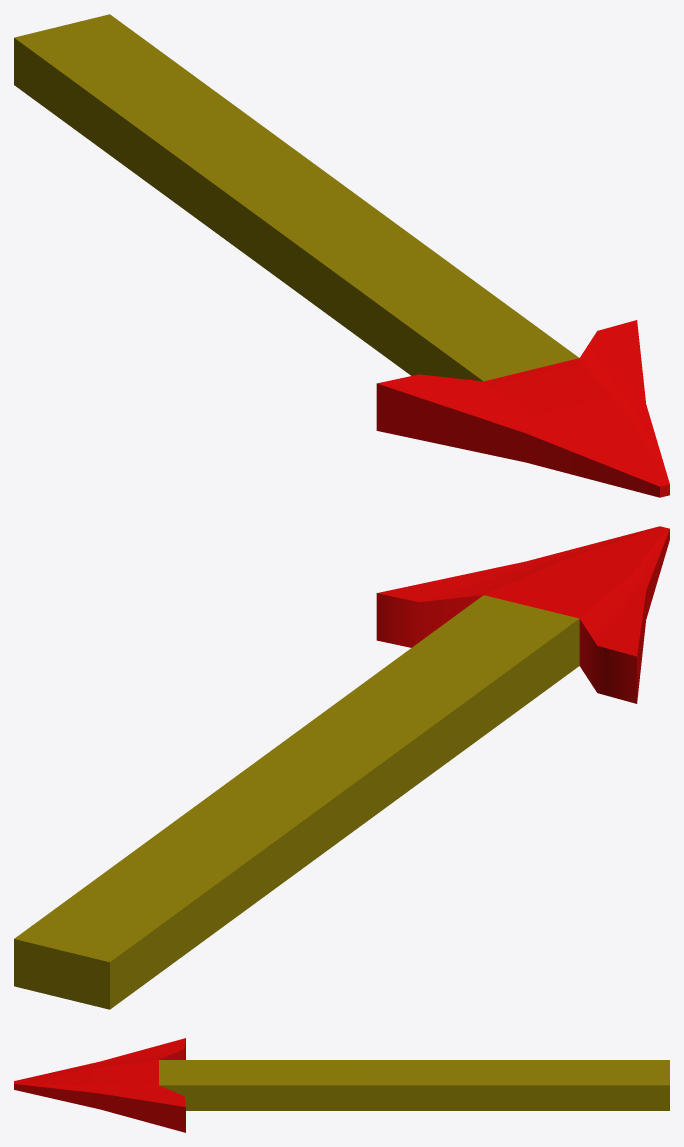
The model's file is pointer.fbx.
3 views of the same model, one above another, from view 1: azimuth 30°, elevation 25°; view 2: azimuth 150°, elevation 25°; view 3: azimuth 270°, elevation 25° (orthographic). The views are drawn at different scales.
Visible parts, largest first — view 1: pCube1; view 2: pCube1; view 3: pCube1.
Boxes of the visible parts, <box> form: pCube1: <box>14,14,669,497</box>; pCube1: <box>14,526,669,1009</box>; pCube1: <box>14,1038,669,1132</box>.
Bounding box in the file's own units: 0.22 × 0.0383 × 0.883.
